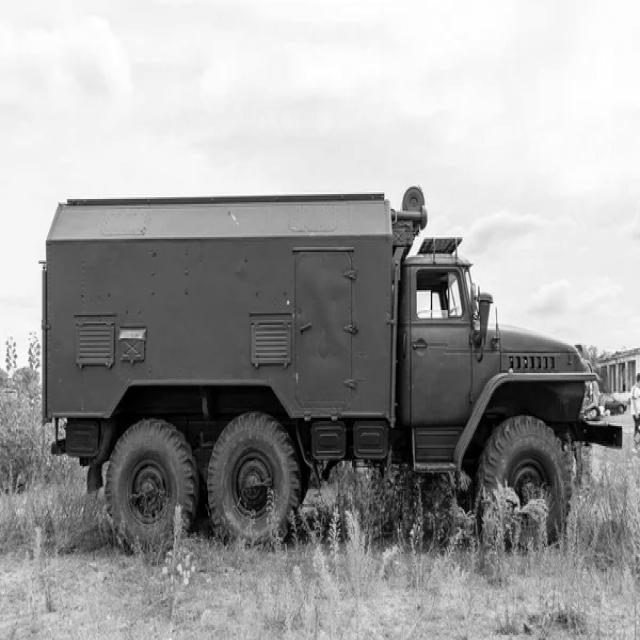Truck: (43, 187, 623, 548)
